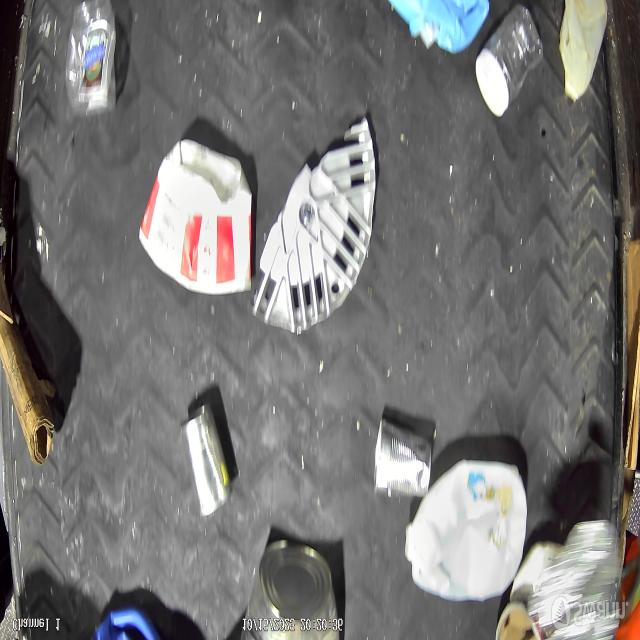can: (246, 539, 341, 640), (182, 403, 232, 518), (373, 416, 433, 498)
milk_jug: (405, 459, 528, 604), (558, 0, 608, 104)
non_white_jug: (389, 0, 491, 55)
